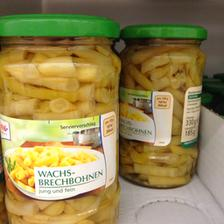Bohnen: (0, 14, 120, 222), (122, 23, 202, 189)
